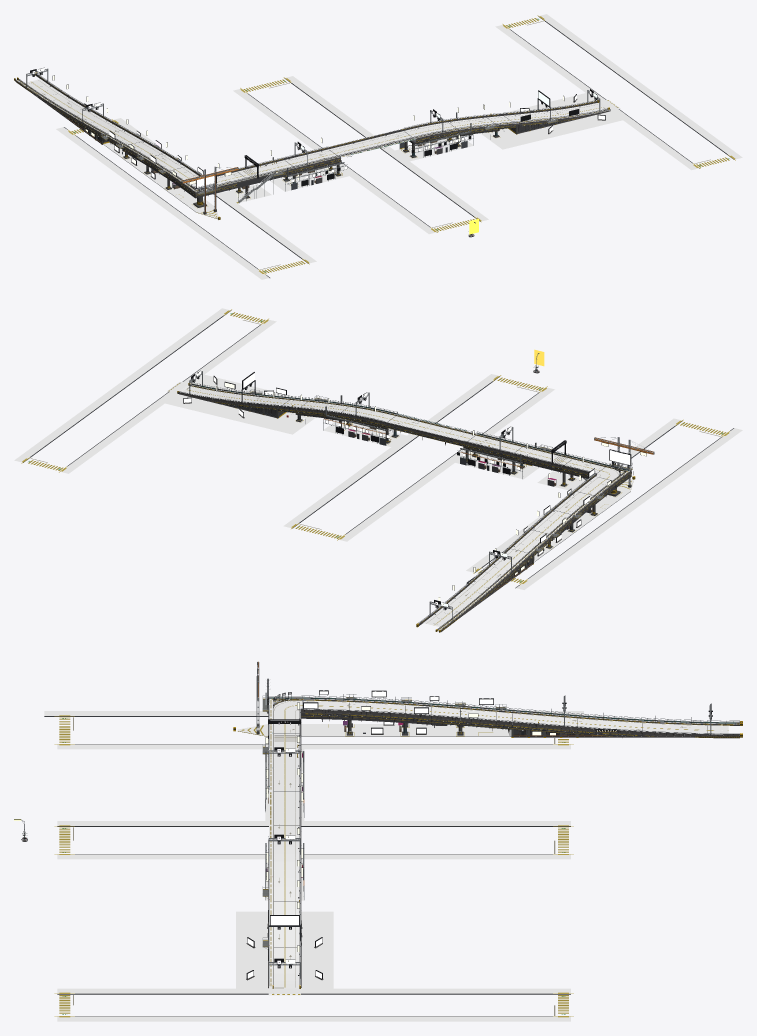
Rendered from world-high-deck.glb.
3 views of the same model, one above another, from view 1: azimuth 30°, elevation 25°; view 2: azimuth 150°, elevation 25°; view 3: azimuth 270°, elevation 25° (orthographic). The views are drawn at different scales.
Visible parts, largest first — view 1: deck_sidewalk, deck_asphalt, deck_castconcrete, deck_steel, deck_trim, deck_paint, deck_kerb, deck_steel_detail, deck_metal_detail, deck_glow, deck_board_frame, deck_billboard (+1 smaller); view 2: deck_sidewalk, deck_asphalt, deck_castconcrete, deck_steel, deck_trim, deck_paint, deck_kerb, deck_steel_detail, deck_glow, deck_board_frame, deck_metal_detail, deck_billboard (+2 smaller); view 3: deck_sidewalk, deck_asphalt, deck_castconcrete, deck_paint, deck_kerb, deck_steel, deck_trim, deck_glow, deck_board_frame, deck_steel_detail, deck_billboard, deck_metal_detail (+2 smaller).
Part boxes in pixels (x1=…): deck_sidewalk: x1=18, y1=14, x2=742, y2=279; deck_asphalt: x1=24, y1=79, x2=620, y2=190; deck_castconcrete: x1=15, y1=74, x2=610, y2=214; deck_steel: x1=15, y1=68, x2=610, y2=211; deck_trim: x1=17, y1=15, x2=735, y2=274; deck_paint: x1=31, y1=18, x2=729, y2=273; deck_kerb: x1=64, y1=16, x2=733, y2=277; deck_steel_detail: x1=21, y1=70, x2=608, y2=212; deck_metal_detail: x1=18, y1=76, x2=607, y2=189; deck_glow: x1=21, y1=68, x2=710, y2=266; deck_board_frame: x1=30, y1=67, x2=605, y2=197; deck_billboard: x1=109, y1=91, x2=604, y2=187; deck_sidewalk: x1=14, y1=308, x2=742, y2=631; deck_asphalt: x1=167, y1=382, x2=623, y2=627; deck_castconcrete: x1=178, y1=380, x2=631, y2=631; deck_steel: x1=178, y1=371, x2=654, y2=629; deck_trim: x1=21, y1=309, x2=729, y2=630; deck_paint: x1=28, y1=312, x2=726, y2=624; deck_kerb: x1=23, y1=310, x2=733, y2=588; deck_steel_detail: x1=189, y1=373, x2=649, y2=629; deck_glow: x1=35, y1=371, x2=723, y2=629; deck_board_frame: x1=183, y1=370, x2=646, y2=607; deck_metal_detail: x1=190, y1=384, x2=626, y2=628; deck_billboard: x1=184, y1=373, x2=630, y2=554; deck_sidewalk: x1=44, y1=698, x2=739, y2=1021; deck_asphalt: x1=268, y1=701, x2=728, y2=995; deck_castconcrete: x1=246, y1=697, x2=739, y2=988; deck_paint: x1=59, y1=701, x2=728, y2=1015; deck_kerb: x1=44, y1=716, x2=570, y2=1016; deck_steel: x1=257, y1=661, x2=739, y2=985; deck_trim: x1=54, y1=697, x2=739, y2=1016; deck_glow: x1=257, y1=667, x2=741, y2=985; deck_board_frame: x1=246, y1=678, x2=711, y2=978; deck_steel_detail: x1=256, y1=676, x2=739, y2=985; deck_billboard: x1=247, y1=691, x2=493, y2=978; deck_metal_detail: x1=268, y1=695, x2=739, y2=984.
Bounding box in the file's own units: 226 × 20.52 × 224.
